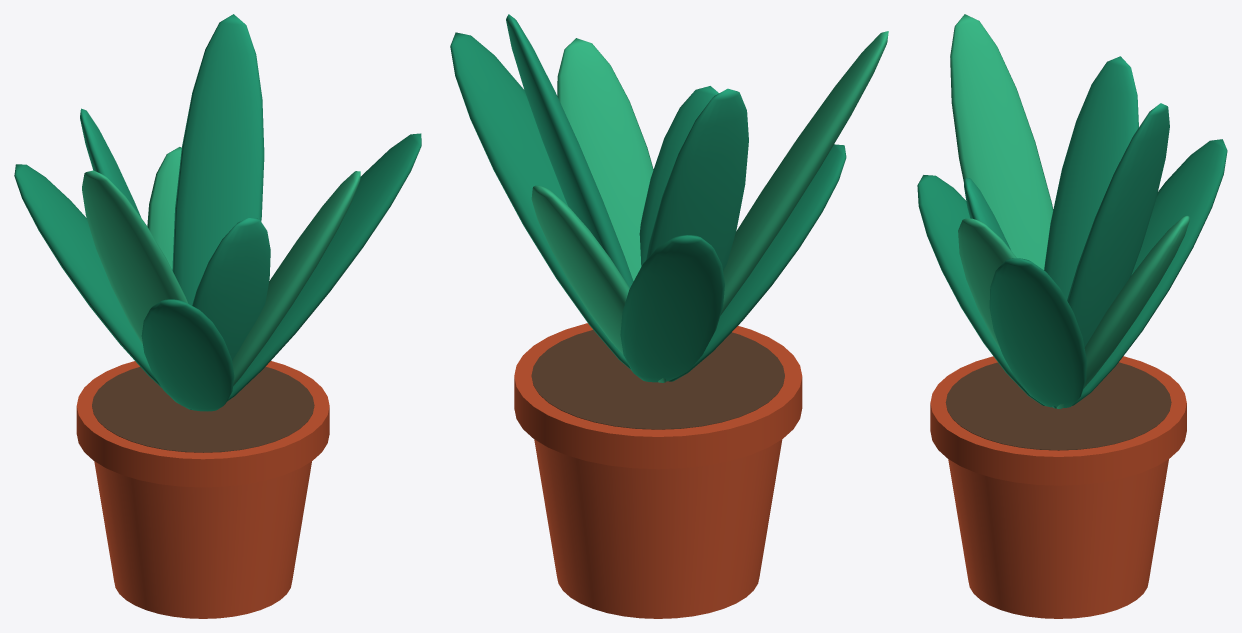
The model's file is plant.glb.
3 views of the same model, side by side, from view 1: azimuth 30°, elevation 25°; view 2: azimuth 150°, elevation 25°; view 3: azimuth 270°, elevation 25° (orthographic). The views are drawn at different scales.
Parts seen in each view (by area): view 1: Plant; view 2: Plant; view 3: Plant.
Boxes of the visible parts, x1,y1,x2,y2 form: Plant: (14,14,421,618); Plant: (450,14,888,618); Plant: (917,14,1227,618).
Size of the model in its own units: 0.4621 by 0.6327 by 0.3435.
